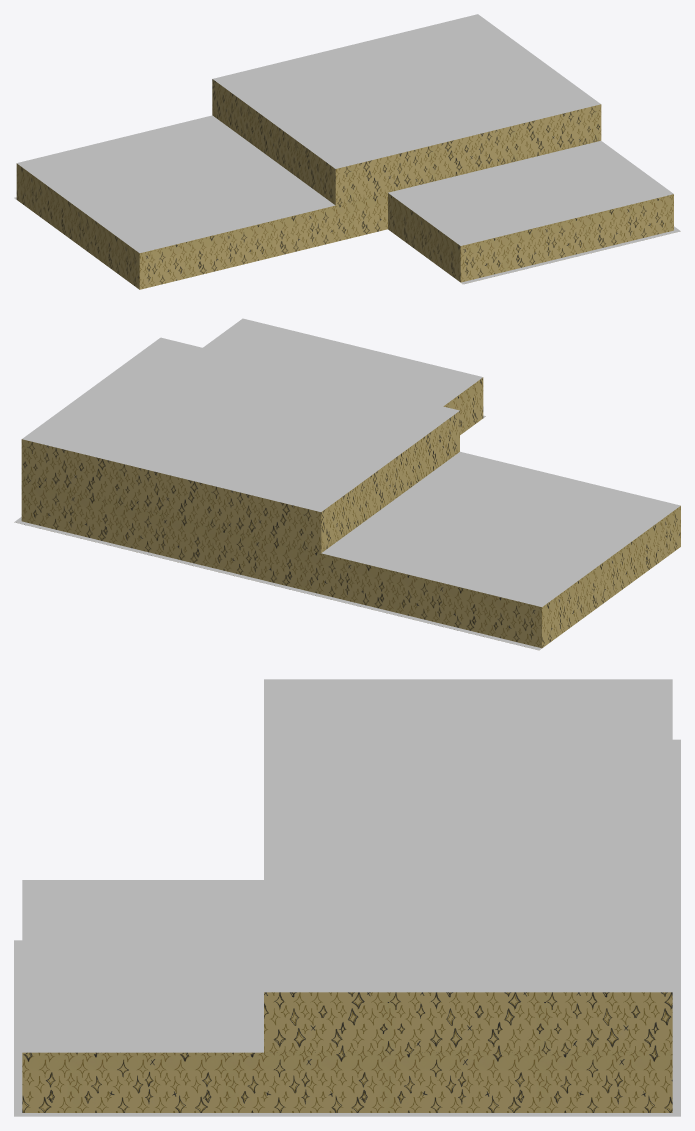
The model's file is PastHome1.fbx.
The picture shows the model from 3 angles, top to bottom: view 1: azimuth 30°, elevation 25°; view 2: azimuth 150°, elevation 25°; view 3: azimuth 270°, elevation 25°; orthographic projection. The views are drawn at different scales.
Visible parts, largest first — view 1: PastHome; view 2: PastHome; view 3: PastHome.
Boxes of the visible parts, x1=… form: PastHome: x1=14, y1=14, x2=680, y2=289; PastHome: x1=14, y1=318, x2=680, y2=650; PastHome: x1=14, y1=679, x2=680, y2=1116.
Bounding box in the file's own units: 5350 × 801 × 4000.
